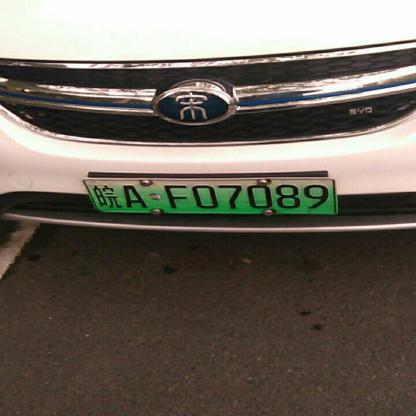lp: (84, 180, 335, 213)
